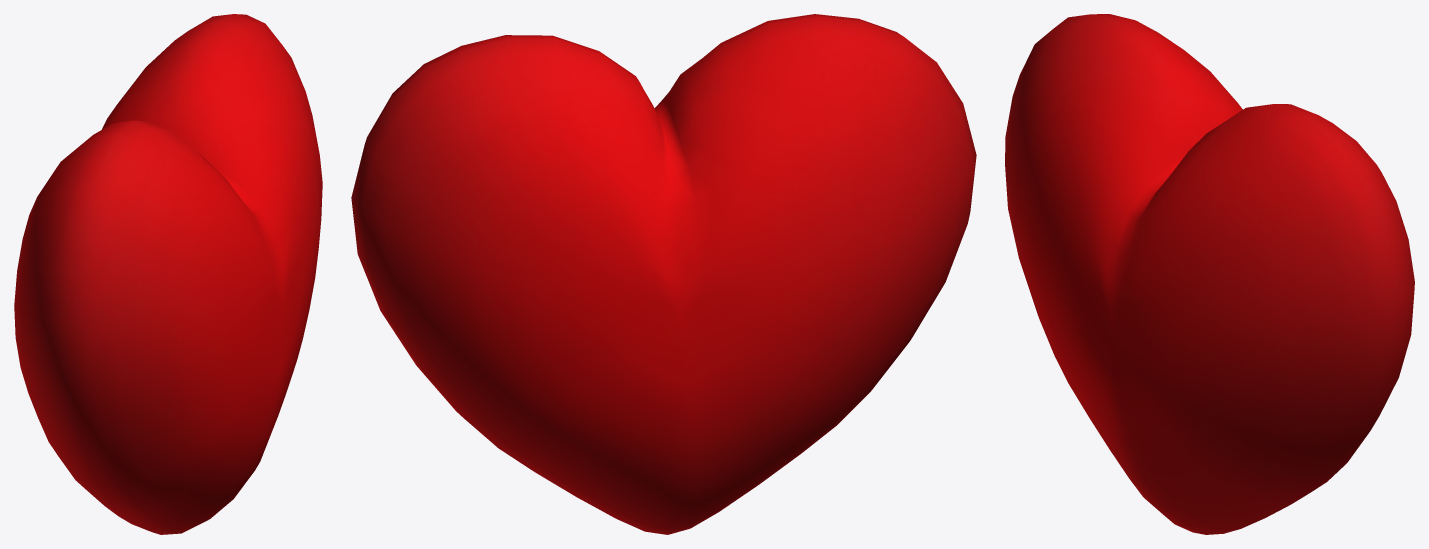
Rendered from ItemHeartModel.gltf.
3 views of the same model, side by side, from view 1: azimuth 30°, elevation 25°; view 2: azimuth 150°, elevation 25°; view 3: azimuth 270°, elevation 25° (orthographic). The views are drawn at different scales.
Parts seen in each view (by area): view 1: item_Heart; view 2: item_Heart; view 3: item_Heart.
Part boxes in pixels (bbox=[...]): item_Heart: bbox=[14, 14, 322, 534]; item_Heart: bbox=[351, 14, 976, 534]; item_Heart: bbox=[1005, 14, 1414, 534].
Bounding box in the file's own units: 1.01 × 1.09 × 0.876.
Materials: 1 (1 with a texture image).
